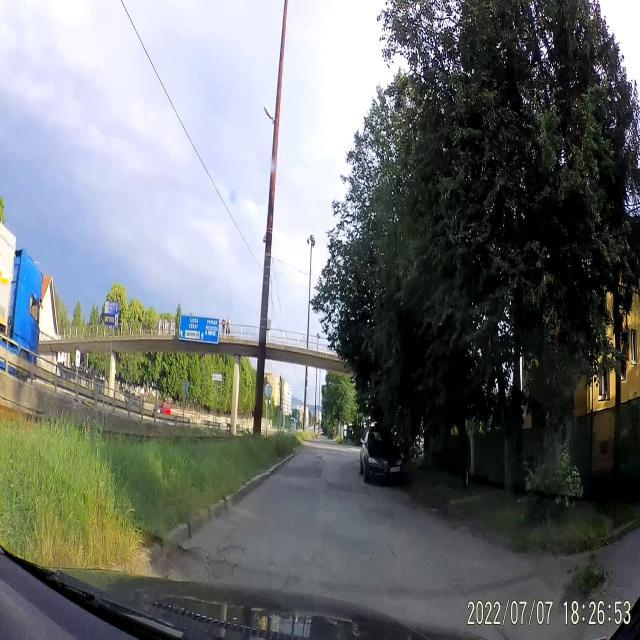Pothole: (161, 530, 225, 584), (216, 537, 244, 558)
